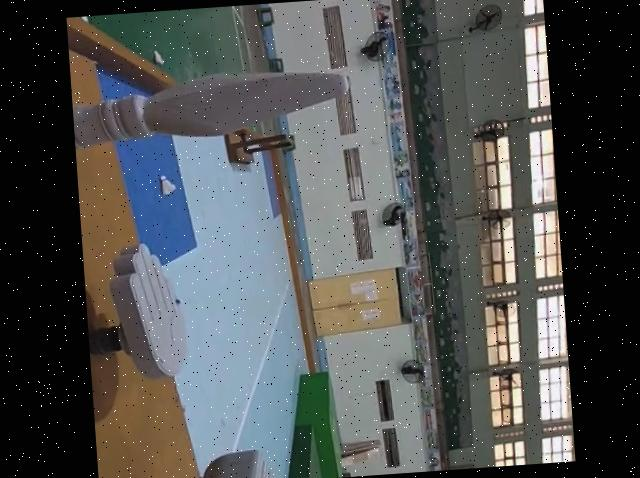Fist: (131, 444, 272, 478)
Hand: (81, 241, 190, 382)
Sph: (69, 55, 360, 144)
